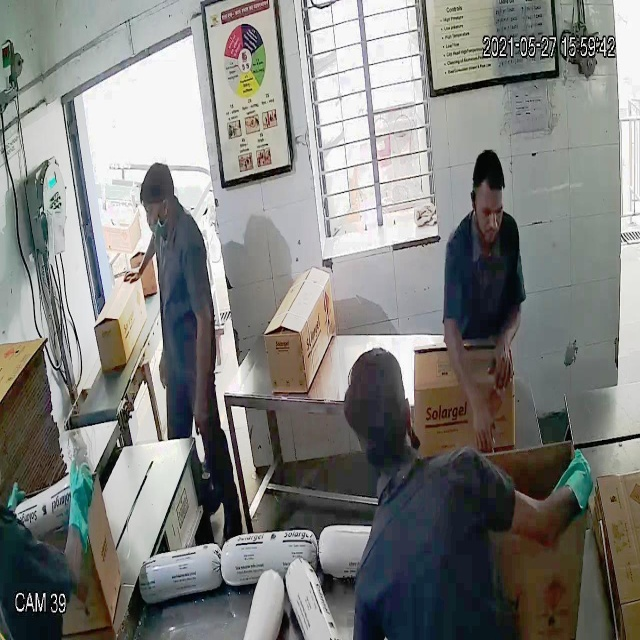Sin_gafas: (470, 196, 508, 226), (140, 198, 172, 223)
